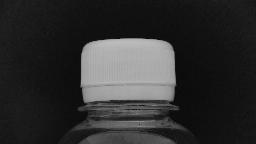Good Cap: (74, 36, 180, 115)
